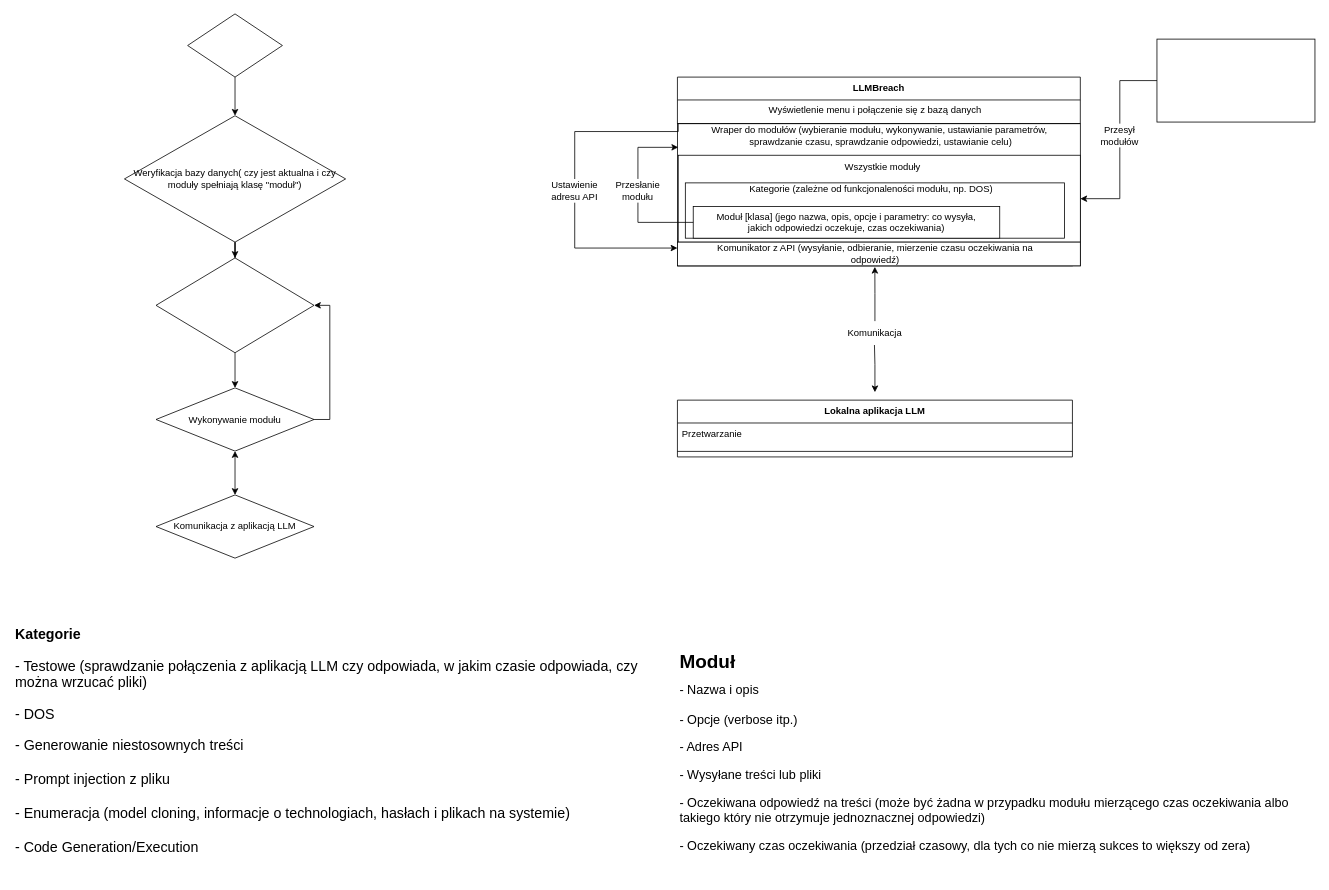
Some shapes in this 1329 by 890 pixel diagram are drawn without their labels. The centre of each missing label's shape, as x and y in pixels:
"Baza danych" goes at (1235,80).
"Ekran startowy" goes at (234,45).
"Menu wyboru modułu i ustawiania parametrów" goes at (234,305).
